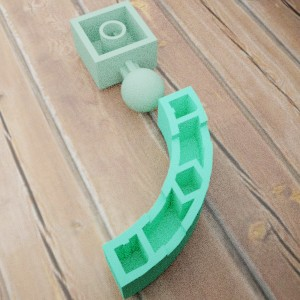lego: (101, 85, 212, 300), (69, 0, 164, 112)
